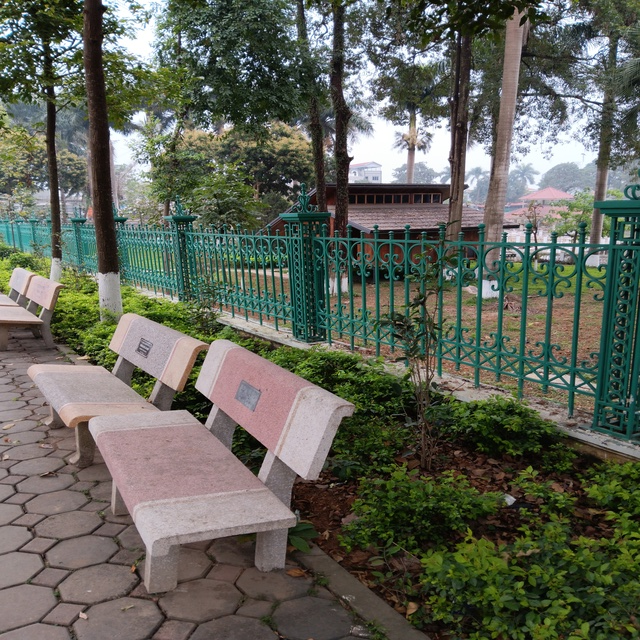gheda: (95, 340, 340, 587), (51, 312, 198, 448), (5, 275, 63, 356), (2, 260, 37, 322)
